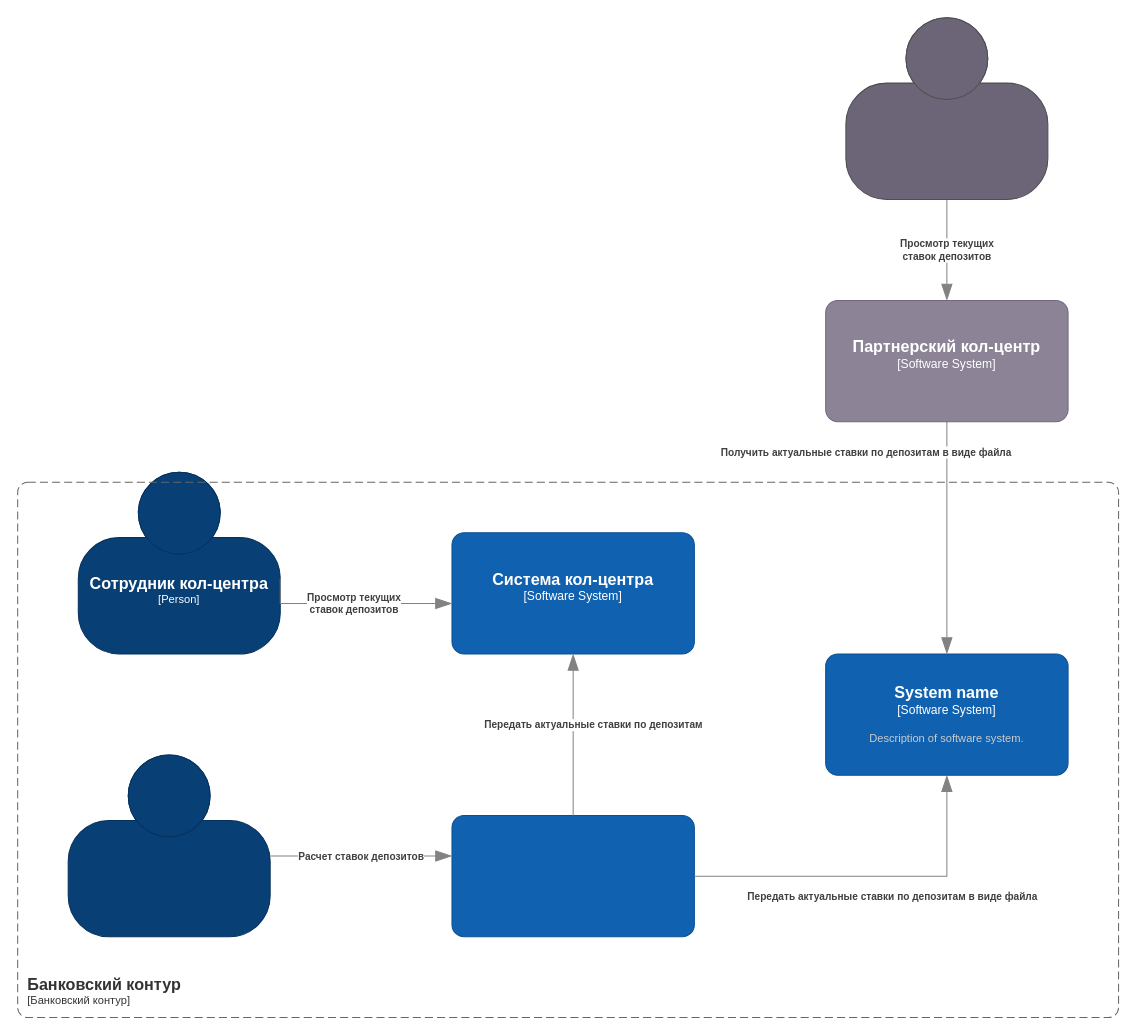
This 1136x1035 diagram has some shape labels left out. Here are the shapes that lost their labels. From the top down, the centre of each, then its label:
At point (946, 108): "Сотрудник партнерского кол-центра [Person]".
At point (168, 845): "Сотрудник бек-офиса депозитов [Person]".
At point (572, 876): "АБС [Software System]".
